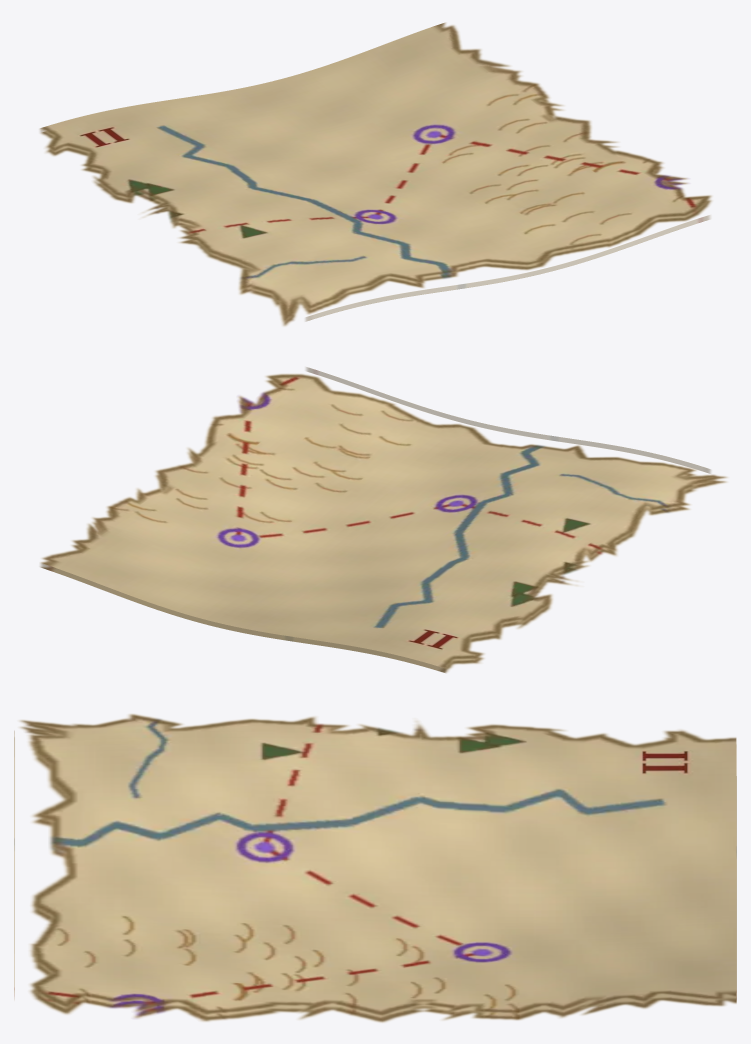
File: kartenstueck_2.glb
3 renders of one model, top to bottom at view 1: azimuth 30°, elevation 25°; view 2: azimuth 150°, elevation 25°; view 3: azimuth 270°, elevation 25°, orthographic. The views are drawn at different scales.
Visible parts, largest first — view 1: kartenstueck_2; view 2: kartenstueck_2; view 3: kartenstueck_2.
Boxes of the visible parts, bbox=[...] form: kartenstueck_2: bbox=[39, 22, 712, 326]; kartenstueck_2: bbox=[40, 367, 727, 672]; kartenstueck_2: bbox=[14, 713, 736, 1022].
Bounding box in the file's own units: 0.1552 × 0.00949 × 0.156.
1 material, 1 textured.
